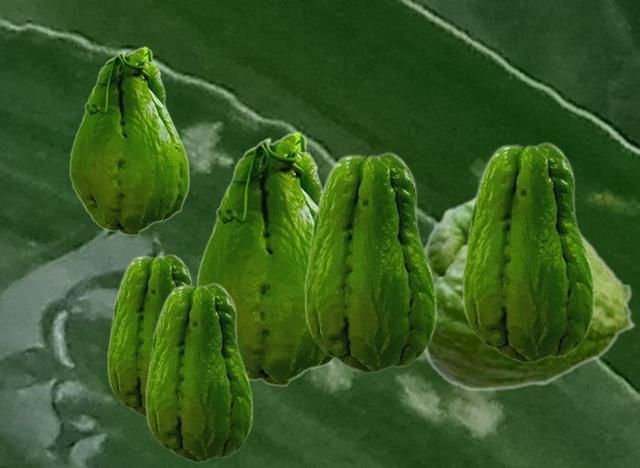sayote: (423, 194, 636, 391), (195, 131, 334, 386), (304, 151, 436, 373), (462, 141, 594, 363), (69, 46, 189, 235), (145, 282, 252, 462), (107, 253, 192, 419)
